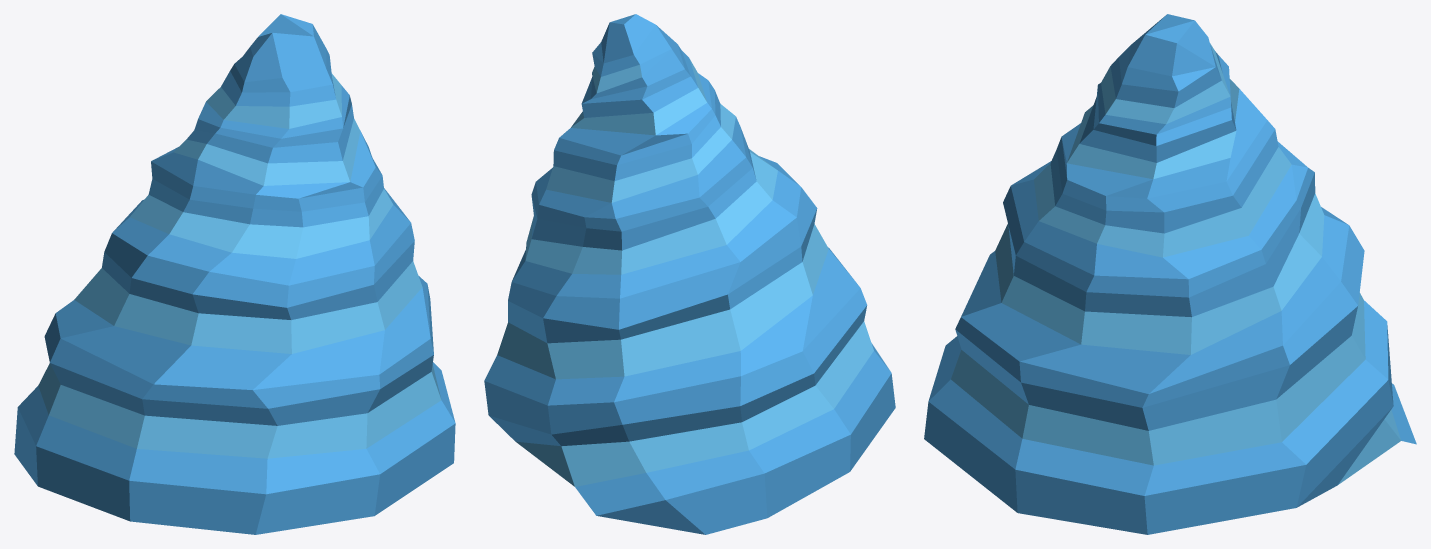
Rendered from Coral_05.fbx.
The picture shows the model from 3 angles, left to right: view 1: azimuth 30°, elevation 25°; view 2: azimuth 150°, elevation 25°; view 3: azimuth 270°, elevation 25°; orthographic projection. The views are drawn at different scales.
Visible parts, largest first — view 1: Coral_05; view 2: Coral_05; view 3: Coral_05.
Boxes of the visible parts, x1,y1,x2,y2 form: Coral_05: (14, 14, 455, 534); Coral_05: (484, 14, 895, 534); Coral_05: (924, 14, 1416, 534).
Bounding box in the file's own units: 32.83 × 36.34 × 34.1.
